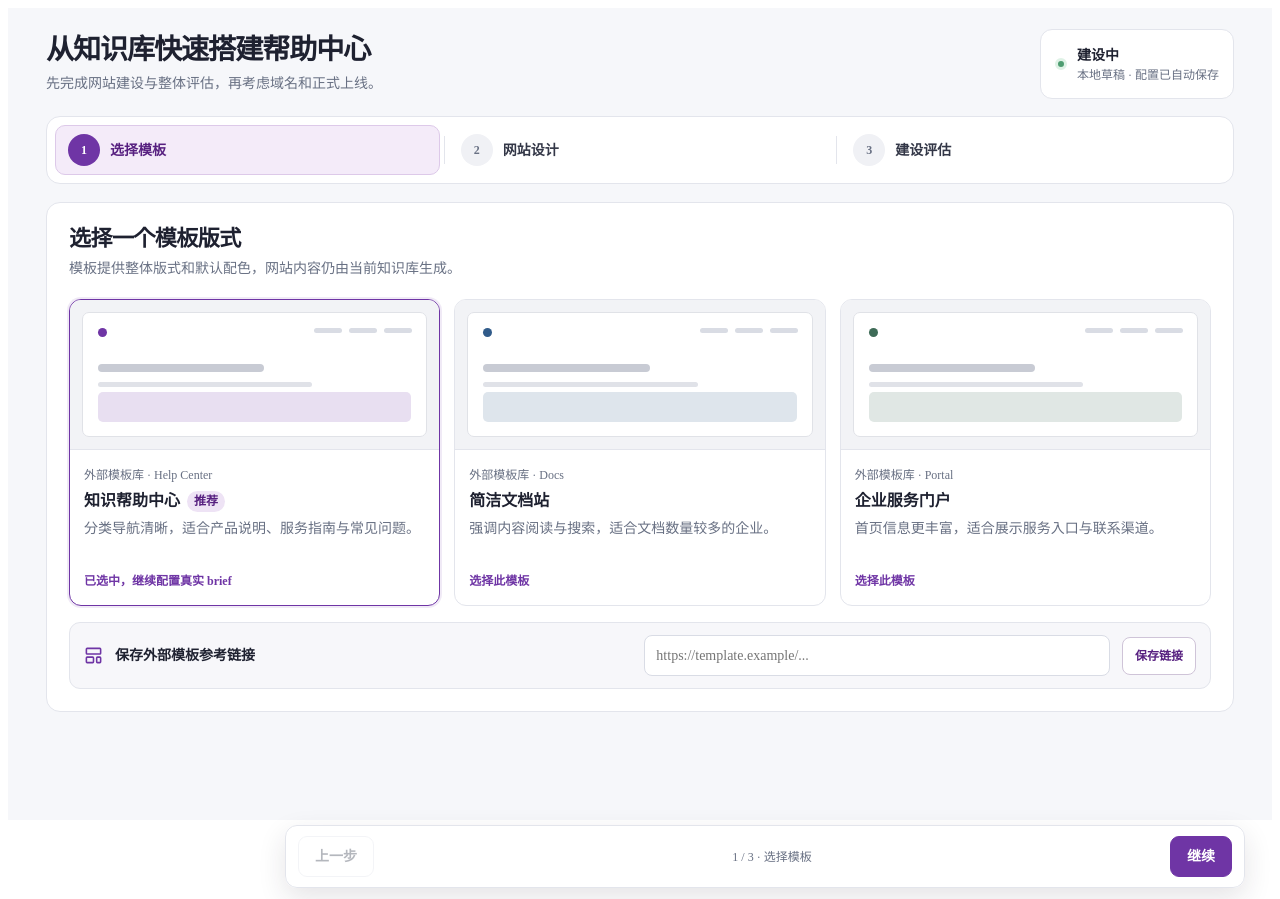
simplified AI website preview › shows exactly three global steps and enters the merged website design step
The width and height of the screenshot is (1280, 899).
Check: the number of list items is 3, box [55, 126, 440, 176]; [448, 126, 832, 176]; [840, 126, 1225, 176]
Check: the button "1 选择模板" is shown, box [55, 126, 440, 176]
Click the button "继续" at (1201, 856), box [1170, 836, 1232, 877]
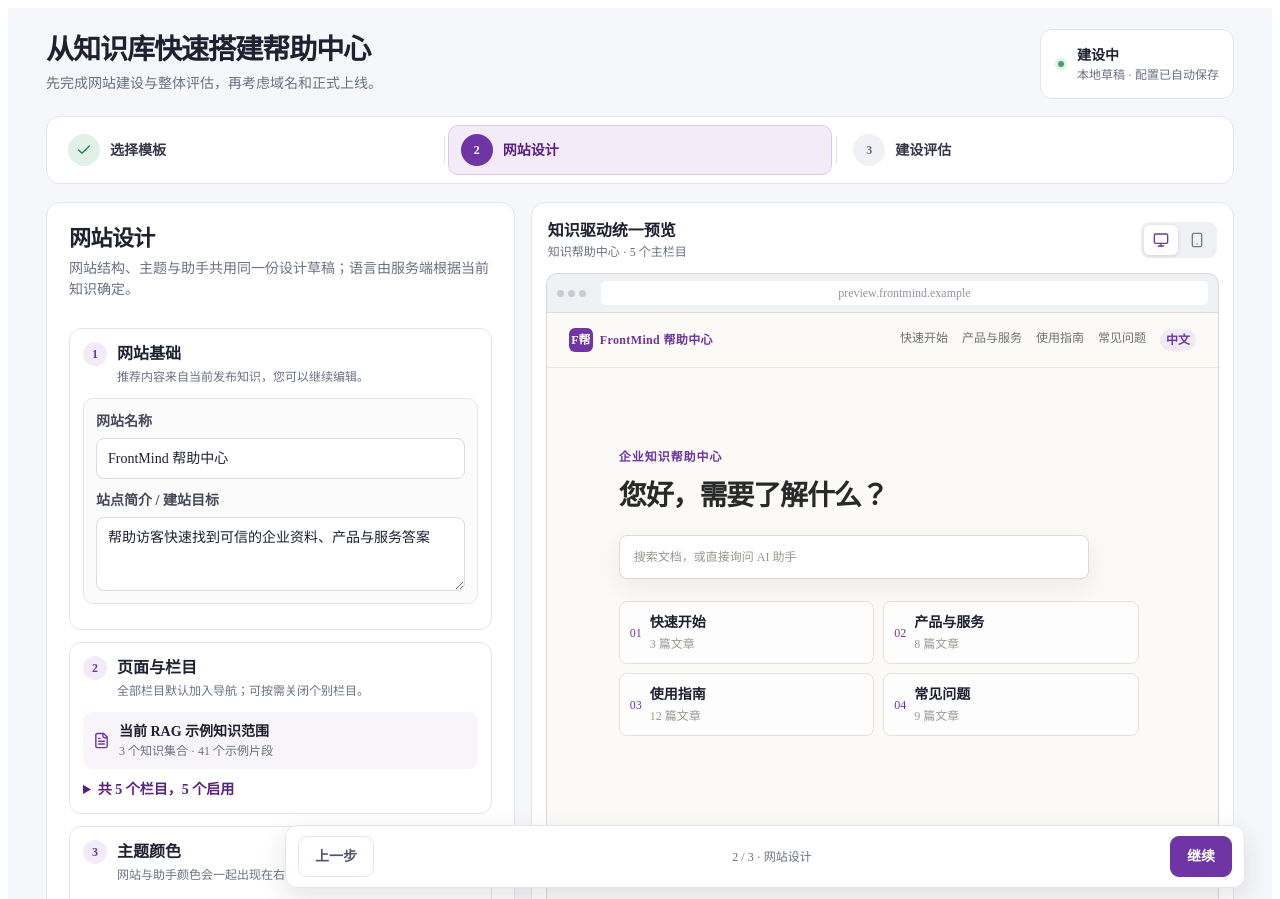
Check: the heading "网站设计" is shown, box [69, 226, 155, 252]
